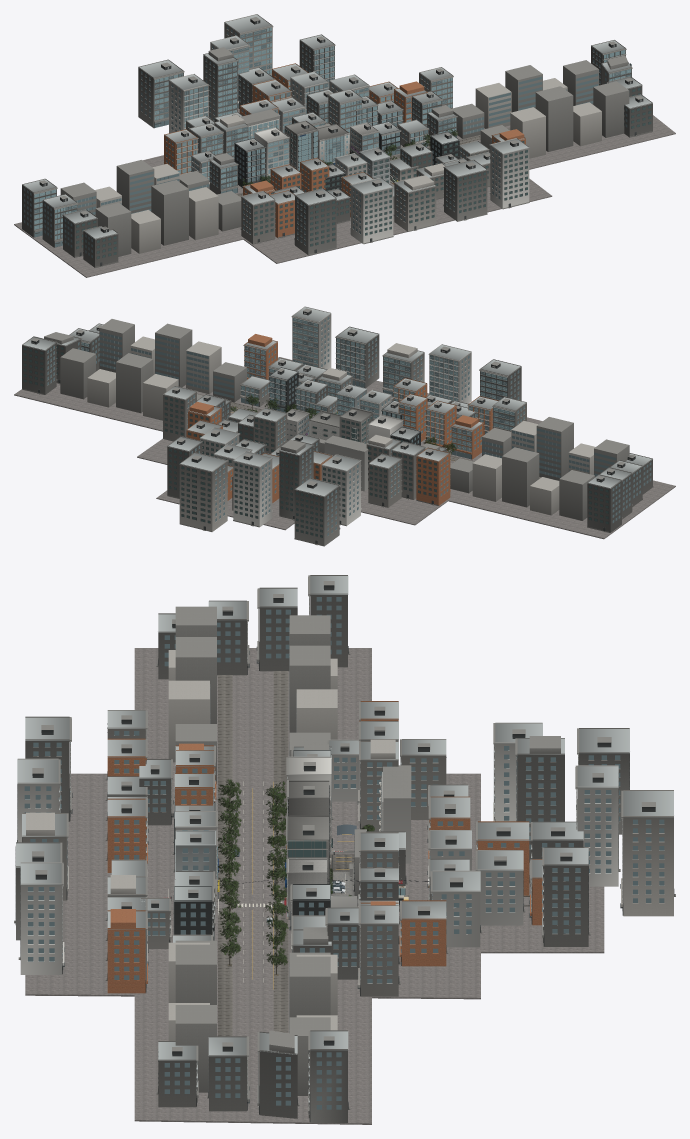
File: street-low.glb
3 renders of one model, top to bottom at view 1: azimuth 30°, elevation 25°; view 2: azimuth 150°, elevation 25°; view 3: azimuth 270°, elevation 25°, orthographic. The views are drawn at different scales.
Visible parts, largest first — view 1: stone, silver, plaster, smoke, chalkwall, glass, asphalt, charcoal, brick, tint, tile, canopy; view 2: stone, plaster, silver, smoke, chalkwall, asphalt, brick, charcoal, glass, tint, canopy, tile; view 3: stone, asphalt, silver, plaster, chalkwall, smoke, brick, paver, charcoal, canopy, tile.
Boxes of the visible parts, x1=… form: stone: x1=22, y1=17, x2=652, y2=267; silver: x1=22, y1=14, x2=652, y2=247; plaster: x1=95, y1=14, x2=601, y2=253; smoke: x1=24, y1=26, x2=631, y2=257; chalkwall: x1=169, y1=35, x2=529, y2=243; glass: x1=34, y1=27, x2=631, y2=239; asphalt: x1=14, y1=108, x2=675, y2=277; charcoal: x1=34, y1=19, x2=650, y2=266; brick: x1=164, y1=63, x2=525, y2=237; tint: x1=76, y1=88, x2=651, y2=258; tile: x1=350, y1=122, x2=378, y2=155; canopy: x1=239, y1=128, x2=459, y2=188; stone: x1=22, y1=308, x2=653, y2=546; plaster: x1=87, y1=336, x2=595, y2=531; silver: x1=22, y1=307, x2=652, y2=496; smoke: x1=47, y1=317, x2=651, y2=535; chalkwall: x1=200, y1=306, x2=471, y2=526; asphalt: x1=14, y1=357, x2=675, y2=539; brick: x1=186, y1=334, x2=498, y2=505; charcoal: x1=24, y1=310, x2=635, y2=543; glass: x1=81, y1=318, x2=514, y2=451; tint: x1=23, y1=346, x2=608, y2=537; canopy: x1=230, y1=394, x2=456, y2=454; tile: x1=287, y1=409, x2=309, y2=440; stone: x1=14, y1=575, x2=675, y2=1122; asphalt: x1=25, y1=648, x2=604, y2=1124; silver: x1=16, y1=576, x2=673, y2=1114; plaster: x1=22, y1=650, x2=673, y2=1040; chalkwall: x1=17, y1=722, x2=618, y2=974; smoke: x1=24, y1=597, x2=664, y2=1109; brick: x1=107, y1=701, x2=542, y2=993; paver: x1=216, y1=671, x2=529, y2=1036; charcoal: x1=15, y1=585, x2=674, y2=1121; canopy: x1=217, y1=779, x2=374, y2=965; tile: x1=288, y1=858, x2=327, y2=919.
Size of the model in its own units: 356 by 40.21 by 209.
Materials: 67 (19 with a texture image).
